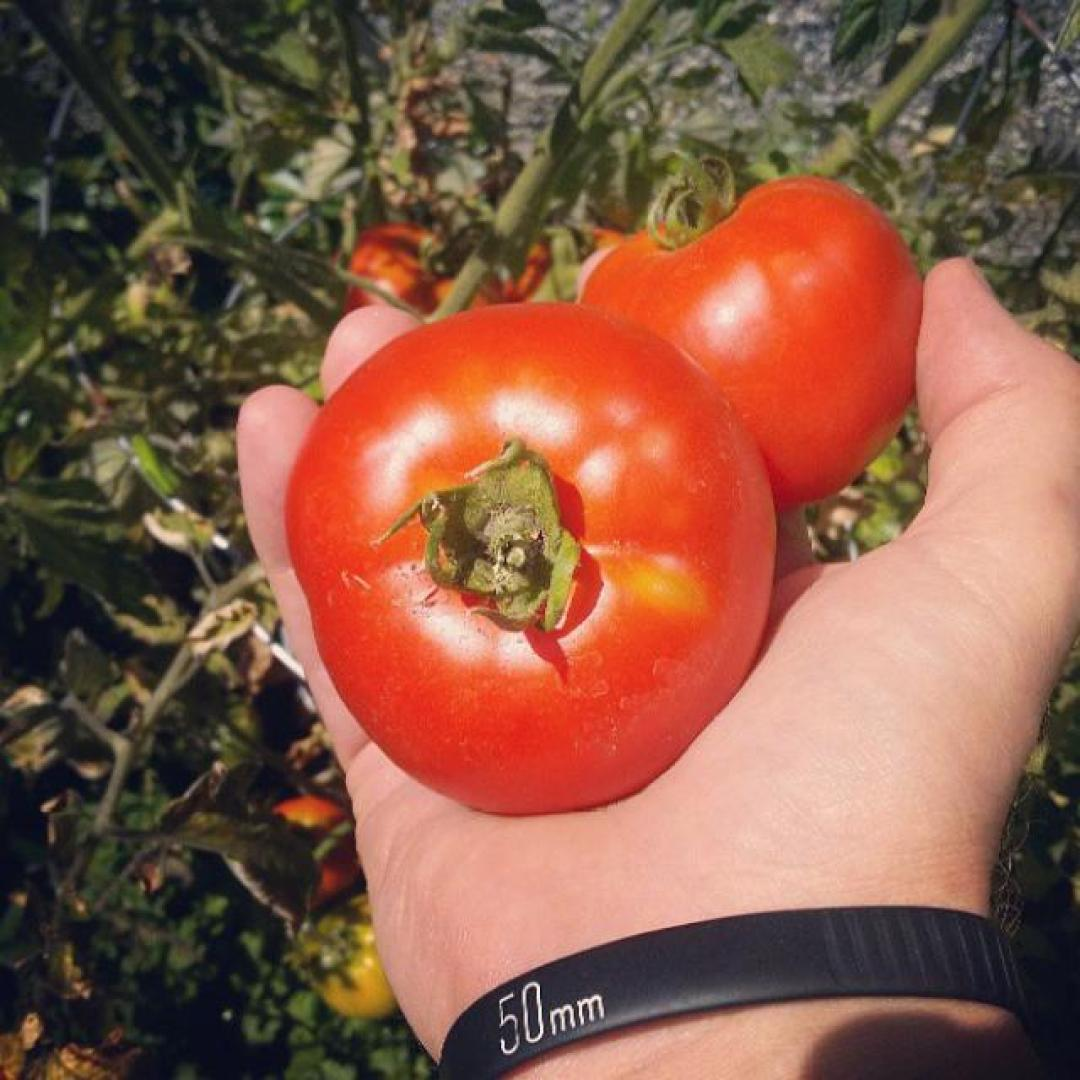matang: (280, 300, 778, 815), (576, 156, 922, 516)
